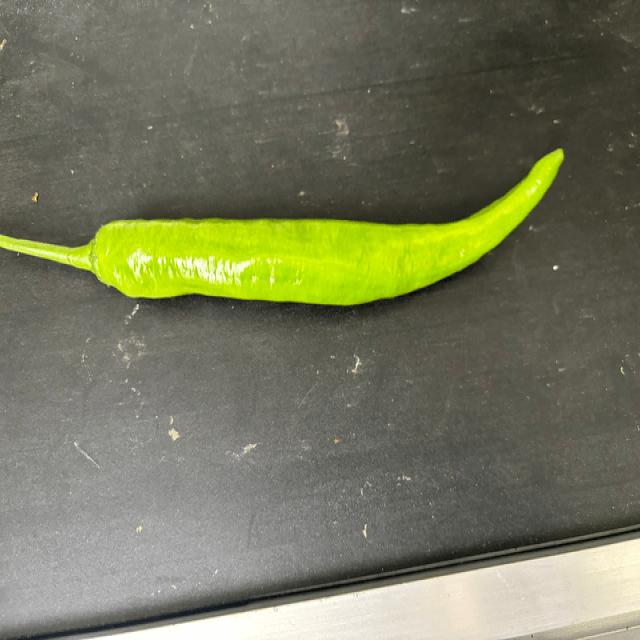chili: (92, 145, 567, 307)
